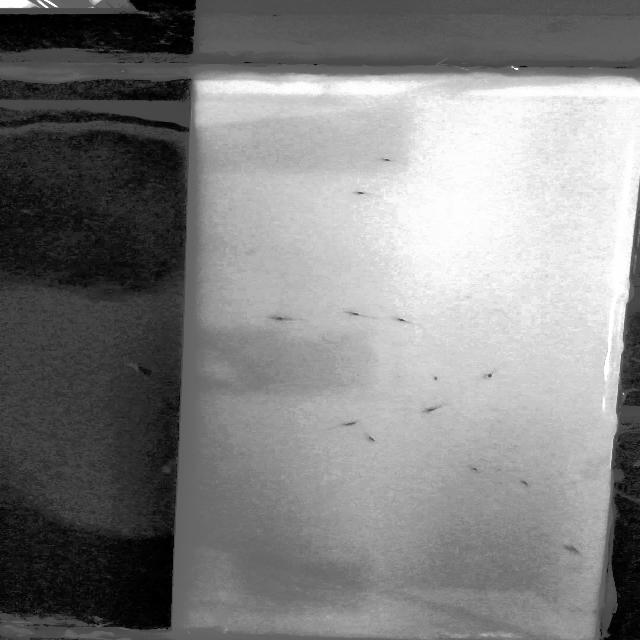shrimp: (513, 478, 541, 490), (389, 316, 420, 326), (421, 404, 449, 415), (270, 314, 299, 324), (337, 310, 373, 318), (351, 189, 378, 199), (338, 418, 365, 428), (480, 371, 505, 380), (360, 435, 383, 444), (465, 463, 486, 472), (566, 545, 587, 554), (378, 156, 398, 163), (430, 372, 441, 382)
